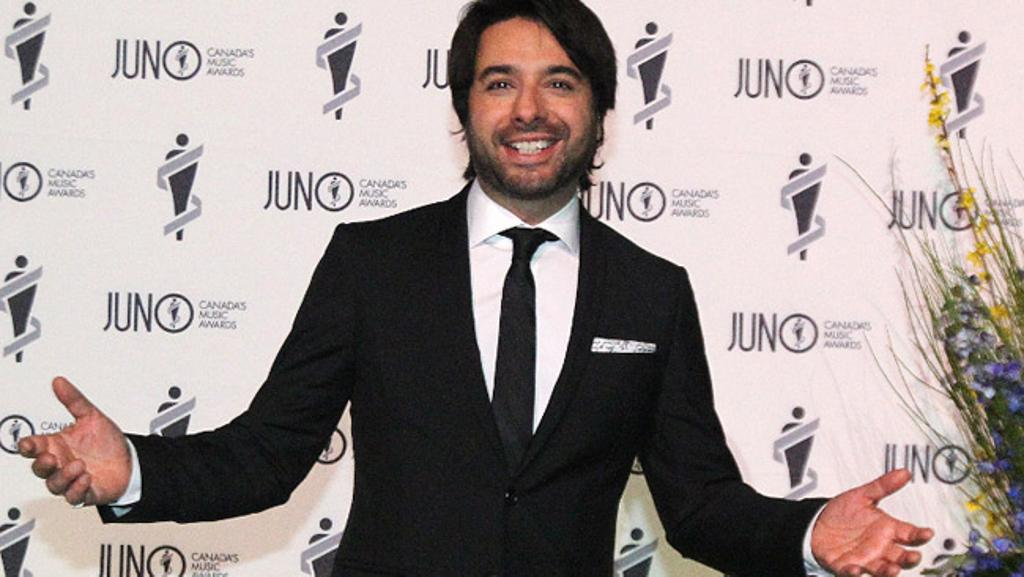face: (475, 23, 583, 189)
